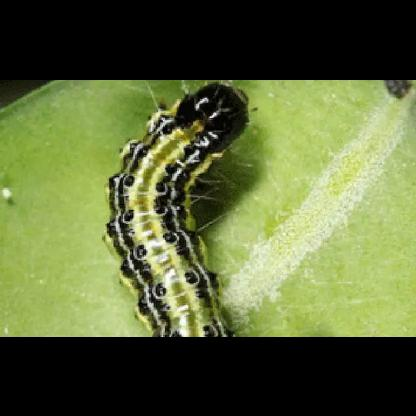oruga: (104, 80, 254, 336)
